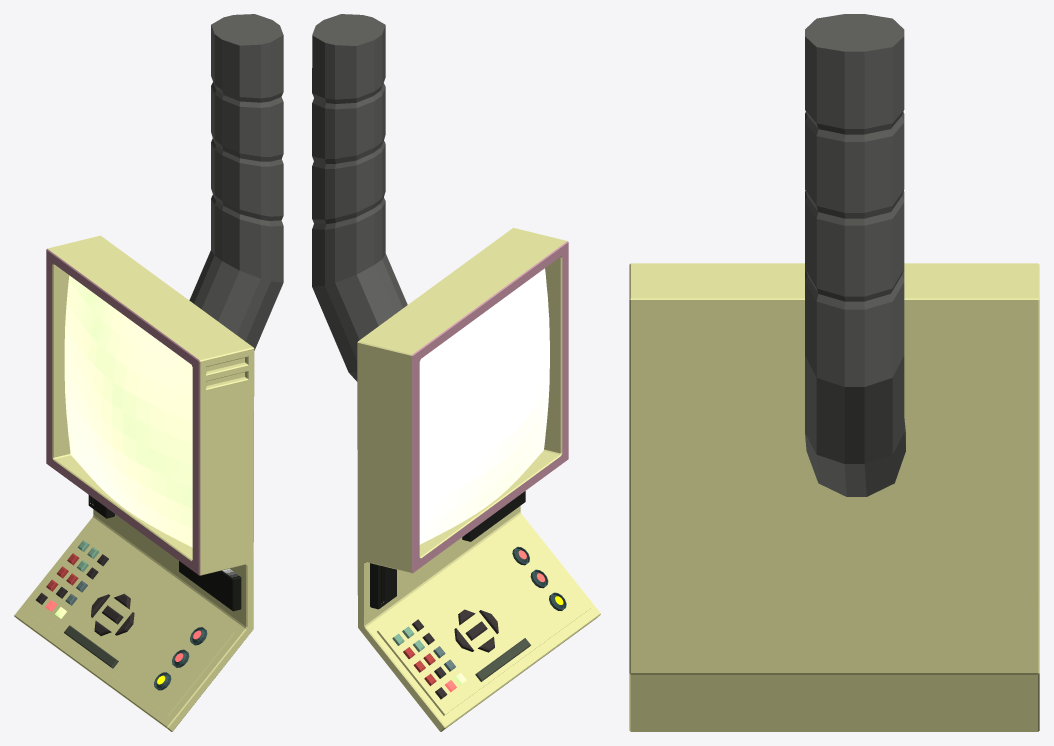
Rendered from display.glb.
3 renders of one model, left to right at view 1: azimuth 30°, elevation 25°; view 2: azimuth 150°, elevation 25°; view 3: azimuth 270°, elevation 25°, orthographic. The views are drawn at different scales.
Parts seen in each view (by area): view 1: terminal; view 2: terminal; view 3: terminal.
Boxes of the visible parts, x1,y1,x2,y2 form: terminal: (14,14,283,731); terminal: (312,14,600,731); terminal: (629,14,1039,731).
Size of the model in its own units: 0.3624 by 1.08 by 0.5.
1 material, 1 textured.
